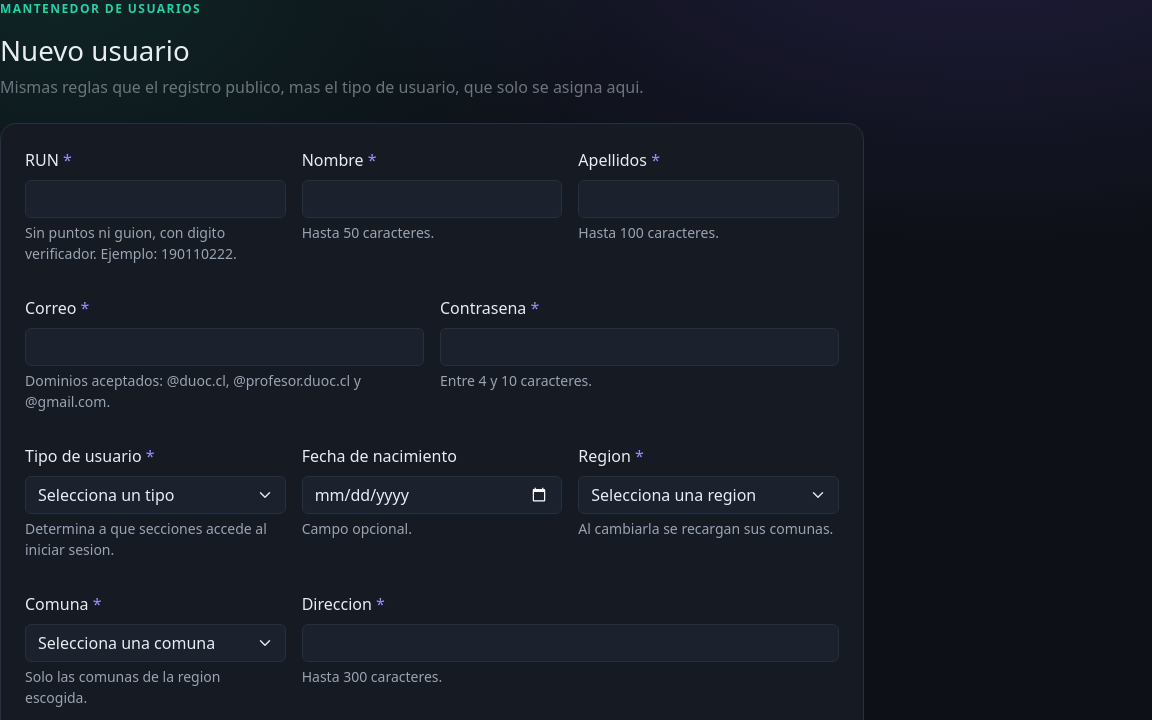
Test: admin / FormularioUsuario › crear › aplica las reglas del registro: RUN, correo y contrasena (RF-11 CA2)
In the field labelled "RUN *": x=155, y=199 [25, 180, 286, 218], type "123456784"
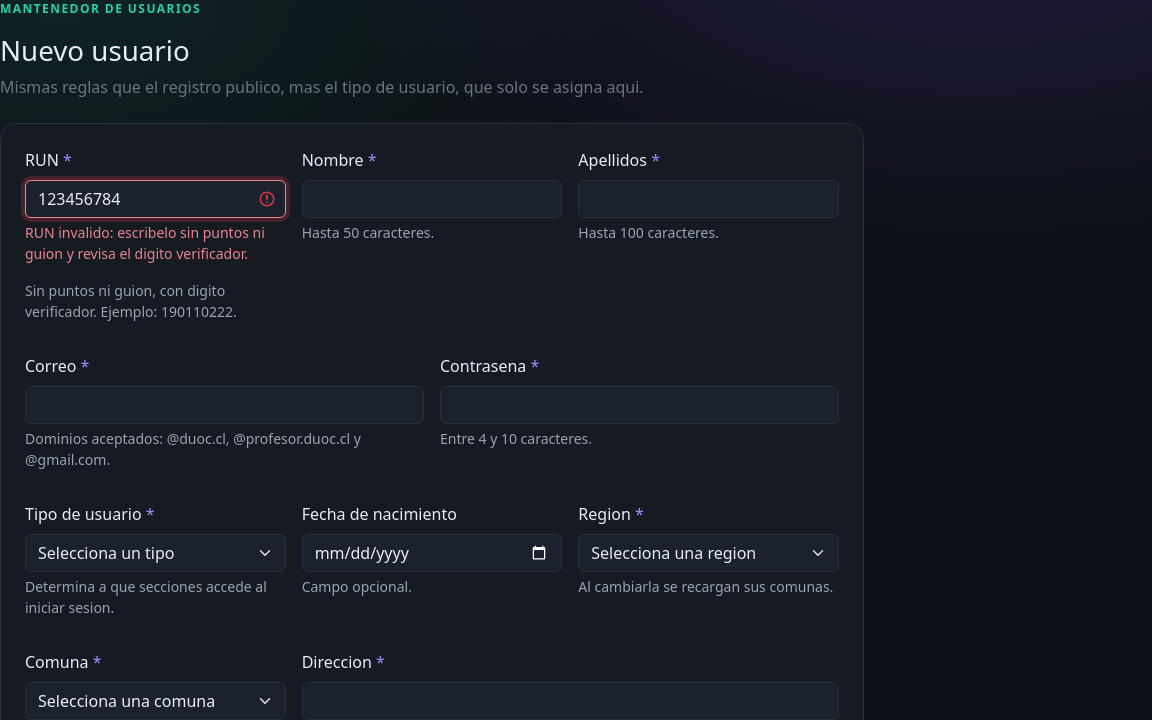
In the field labelled "Correo *": x=224, y=405 [25, 386, 424, 424], type "ana@hotmail.com"
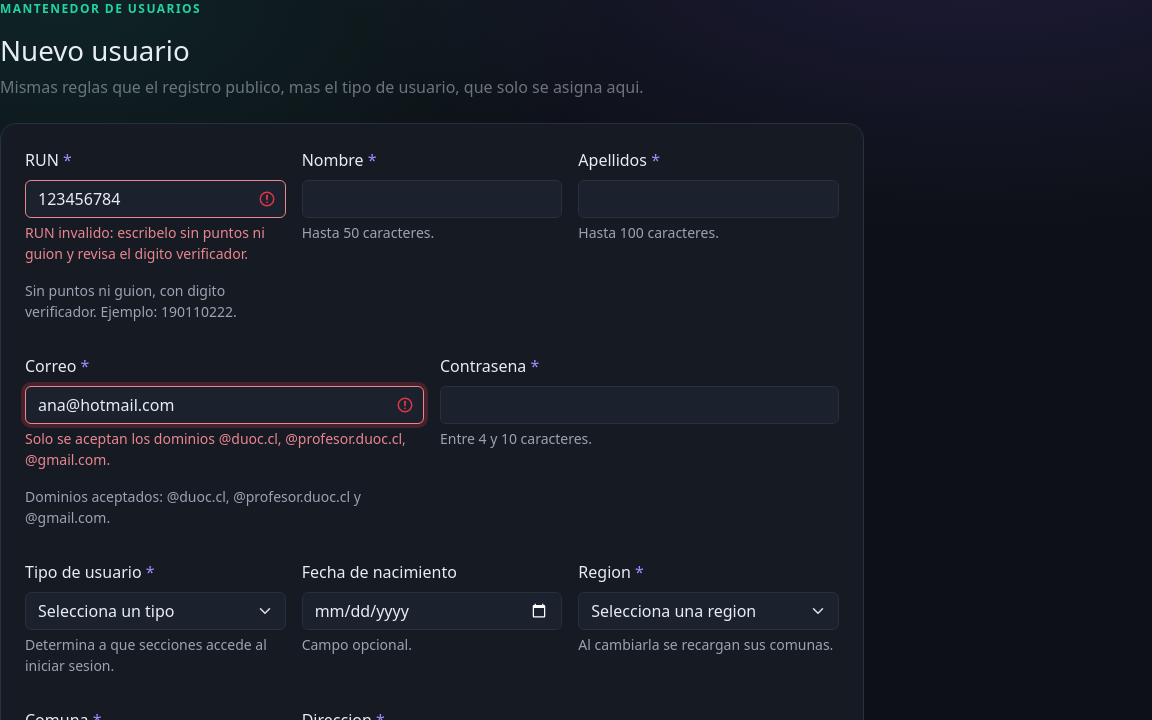
In the password field labelled "Contrasena *": x=640, y=405 [440, 386, 839, 424], type "abc"
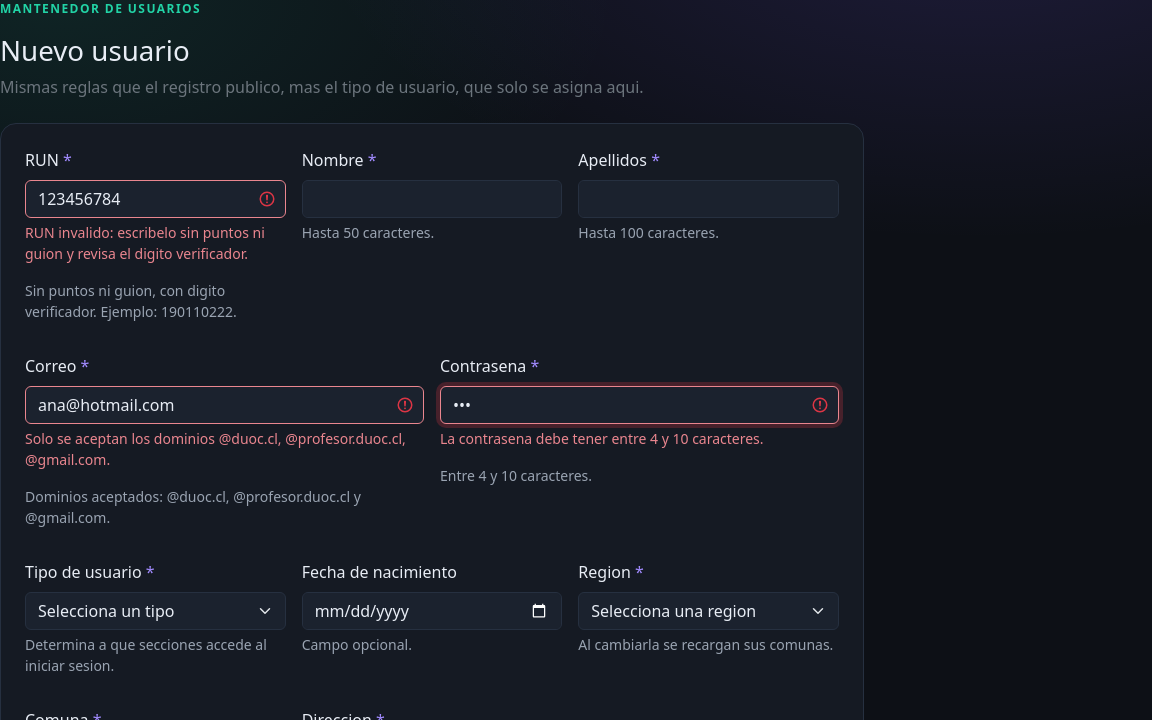
Expected: the text "RUN invalido" is shown, [25, 223, 265, 263]
Expected: the text "Solo se aceptan los dominios" is shown, [25, 429, 406, 469]
Expected: the text "La contrasena debe tener entre 4 y 10 caracteres." is shown, [440, 429, 764, 448]
